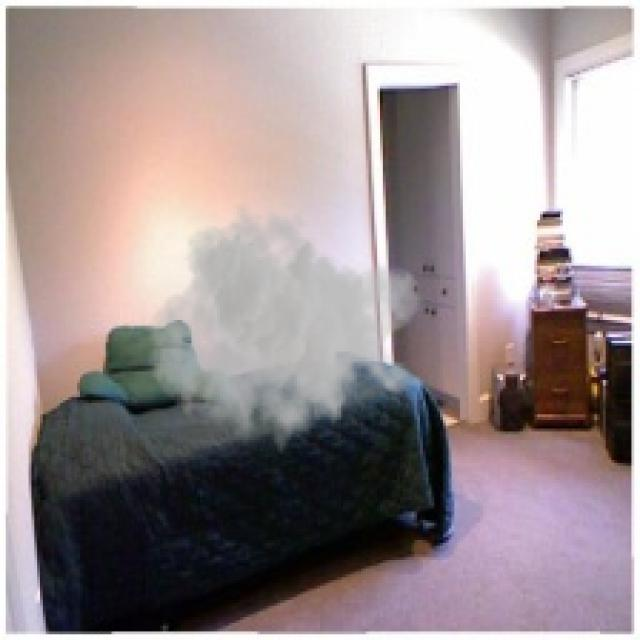smoke: (148, 203, 423, 466)
